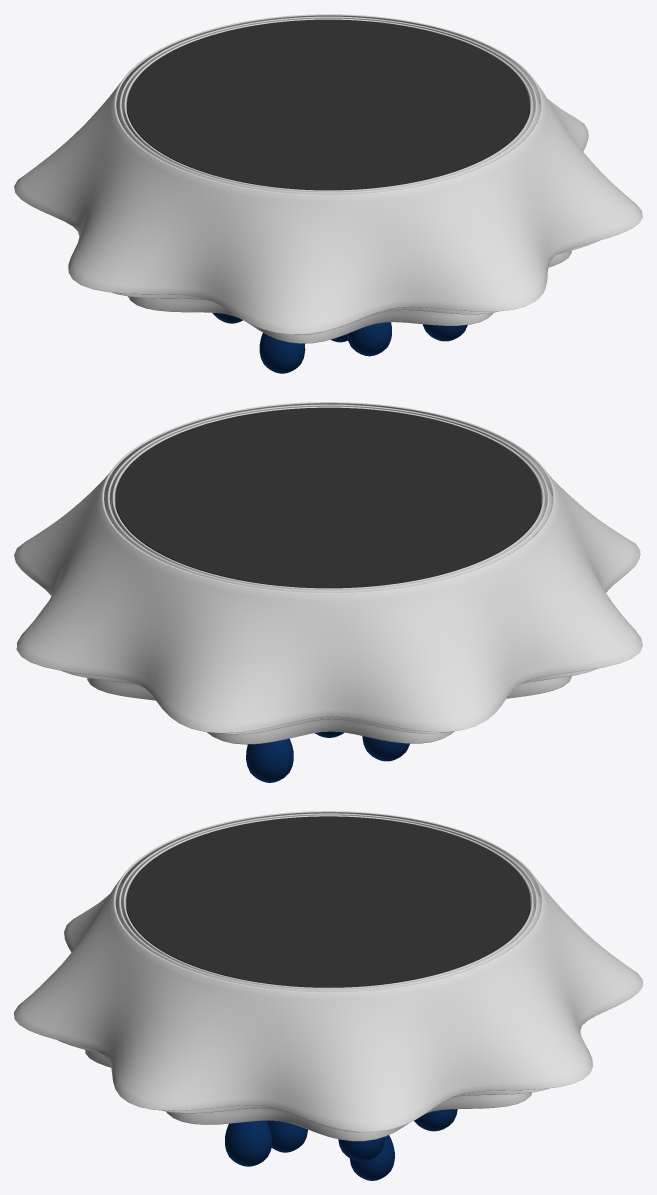
The model's file is Lamp.fbx.
The picture shows the model from 3 angles, top to bottom: view 1: azimuth 30°, elevation 25°; view 2: azimuth 150°, elevation 25°; view 3: azimuth 270°, elevation 25°; orthographic projection. The views are drawn at different scales.
Parts seen in each view (by area): view 1: Box002, Cylinder002_Retopo, Cylinder001_Retopo; view 2: Box002, Cylinder002_Retopo, Cylinder001_Retopo; view 3: Box002, Cylinder002_Retopo, Cylinder001_Retopo.
Boxes of the visible parts, x1,y1,x2,y2 form: Box002: (14,14,642,343); Cylinder002_Retopo: (127,19,529,190); Cylinder001_Retopo: (212,312,467,373); Box002: (14,402,642,744); Cylinder002_Retopo: (115,407,541,588); Cylinder001_Retopo: (246,731,409,782); Box002: (14,811,642,1141); Cylinder002_Retopo: (126,816,530,987); Cylinder001_Retopo: (225,1109,457,1180).
Bounding box in the file's own units: 151 × 151 × 69.02.
